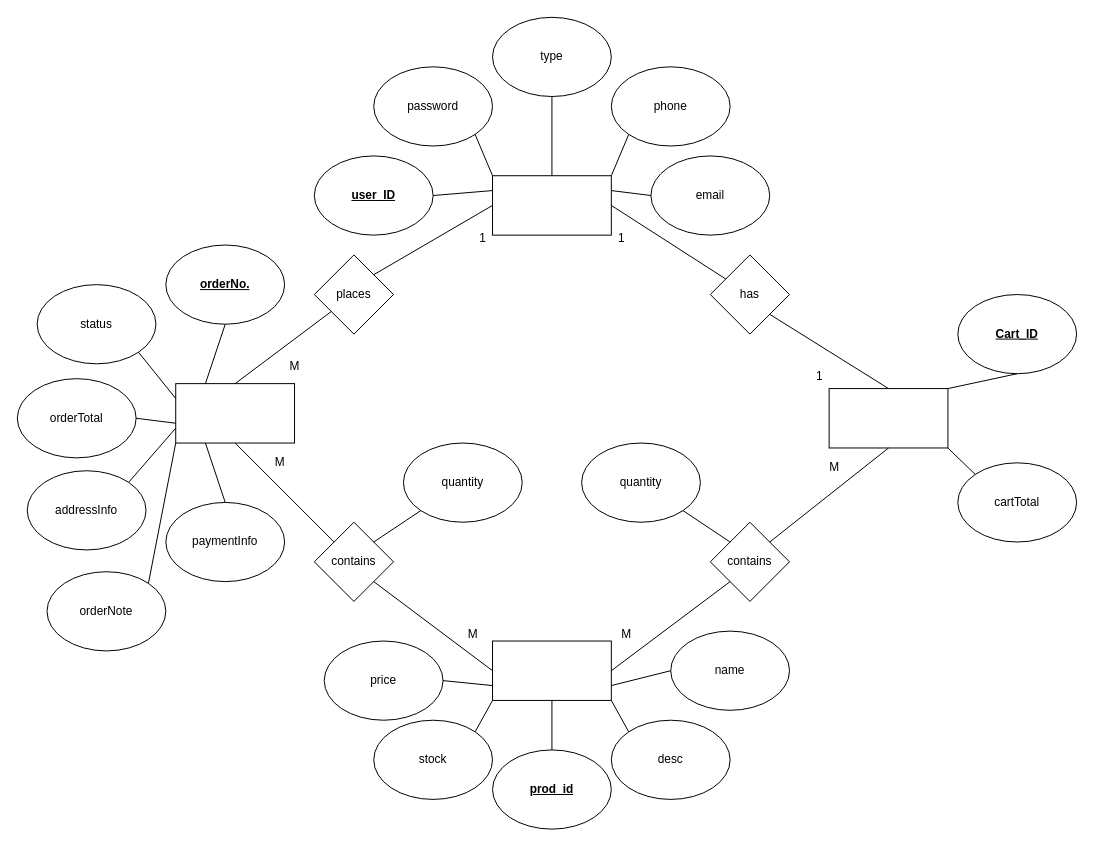
Some shapes in this 1094 by 846 pixel diagram are drawn without their labels. The centre of each missing label's shape, as x and y in pixels:
"Cart" goes at [888,418].
"Order" goes at [235,413].
"Product" goes at [551,670].
"User" goes at [551,205].
